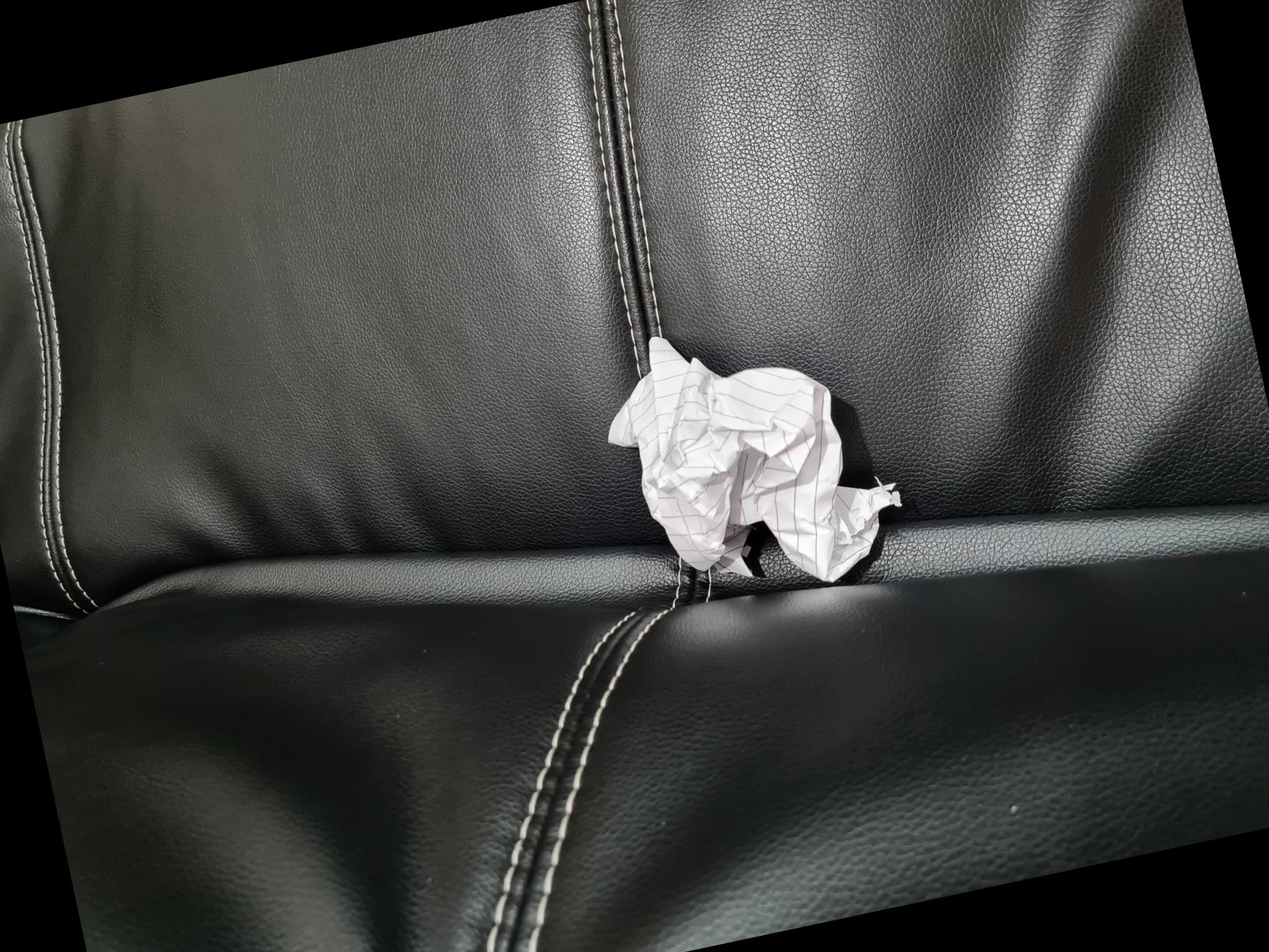Kertas: (407, 639, 651, 930)
